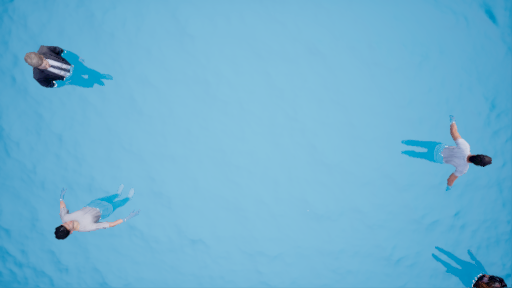person: (396, 115, 497, 193), (43, 186, 147, 242), (22, 42, 115, 94), (429, 240, 507, 288)
